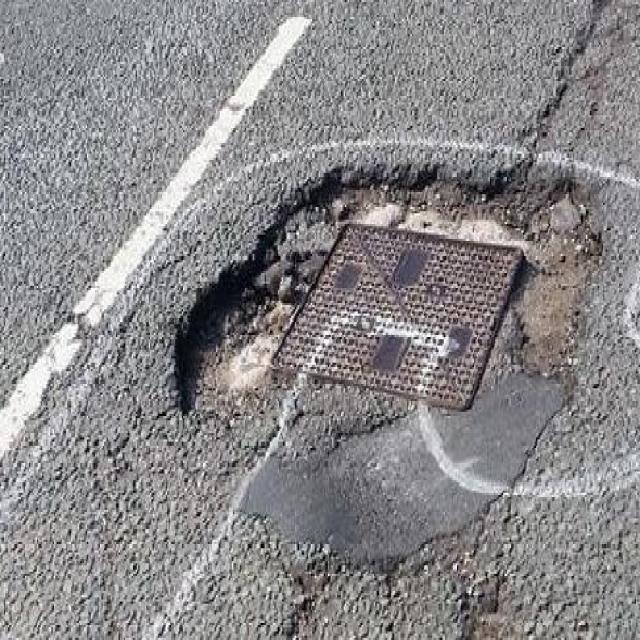Pothole: (171, 155, 611, 422)
